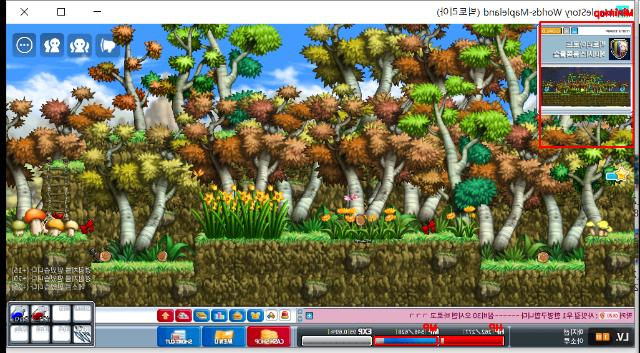me: (352, 209, 374, 245)
pig: (34, 212, 62, 236)
